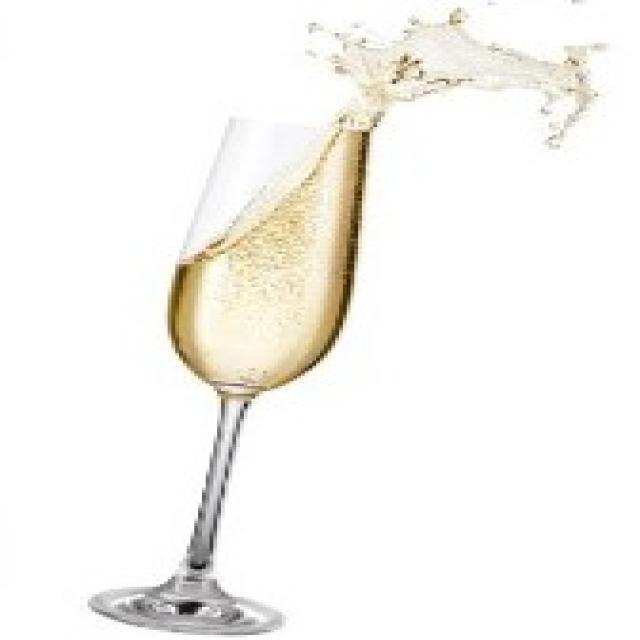electronic: (74, 114, 372, 640)
